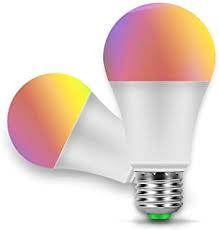bulb: (100, 1, 219, 141), (5, 63, 104, 184)
